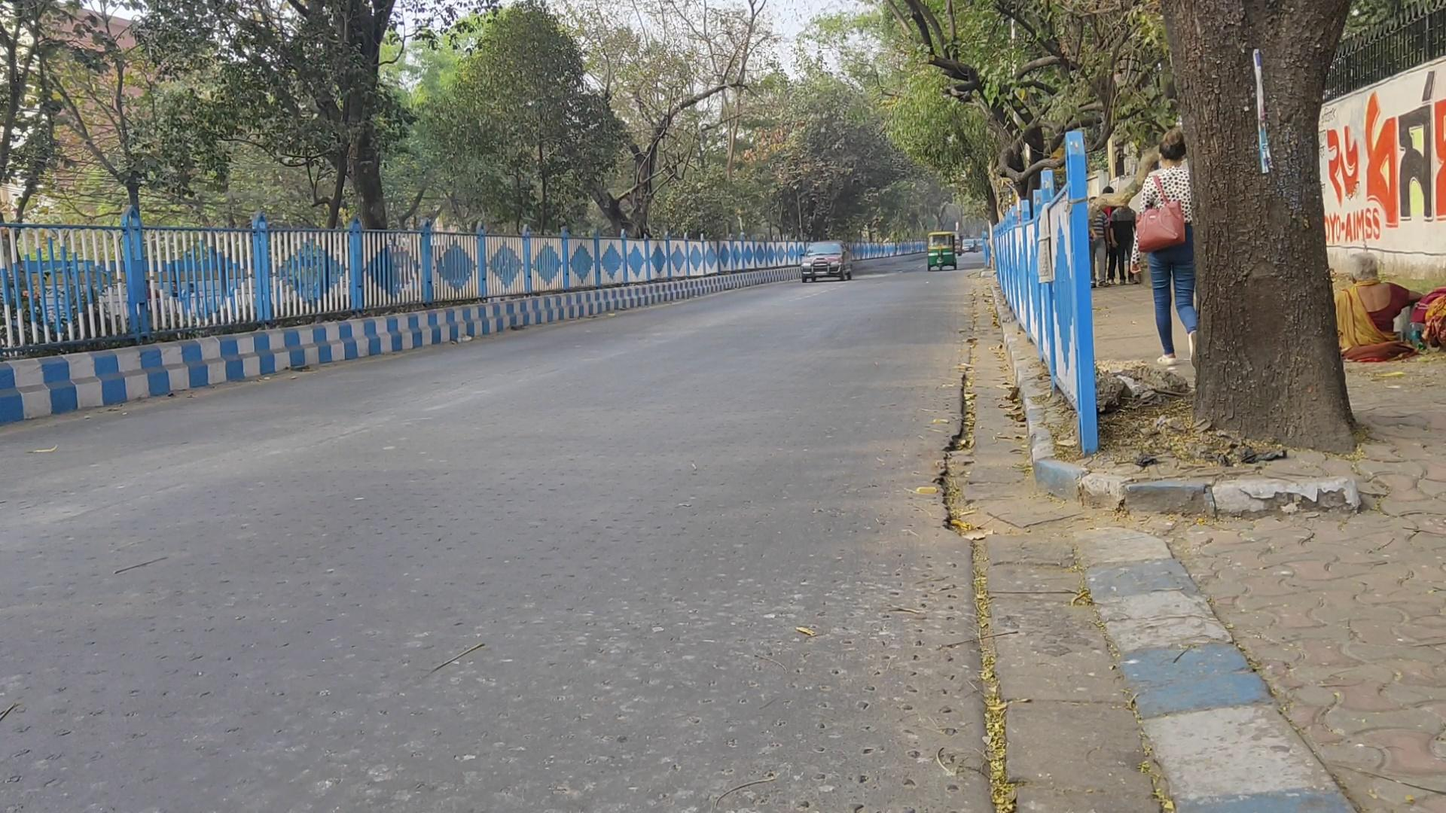Auto: (924, 230, 958, 272)
car: (801, 239, 853, 285)
